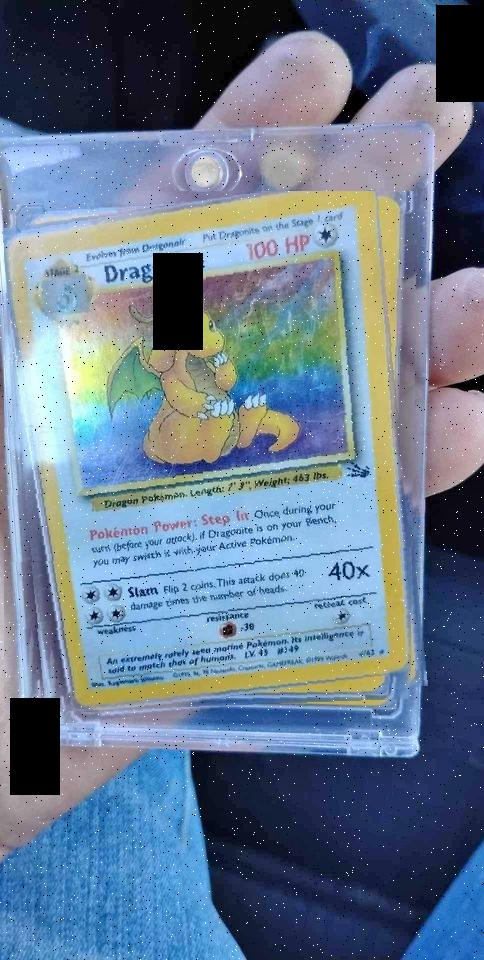card: (4, 191, 411, 711)
